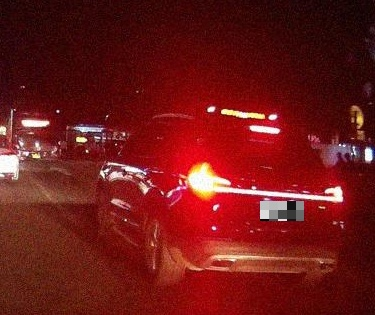L_light: (188, 171, 232, 196)
R_light: (321, 184, 344, 203)
T_light: (250, 126, 281, 134)
night-left: (181, 117, 348, 289)
plate_1: (260, 201, 304, 221)
